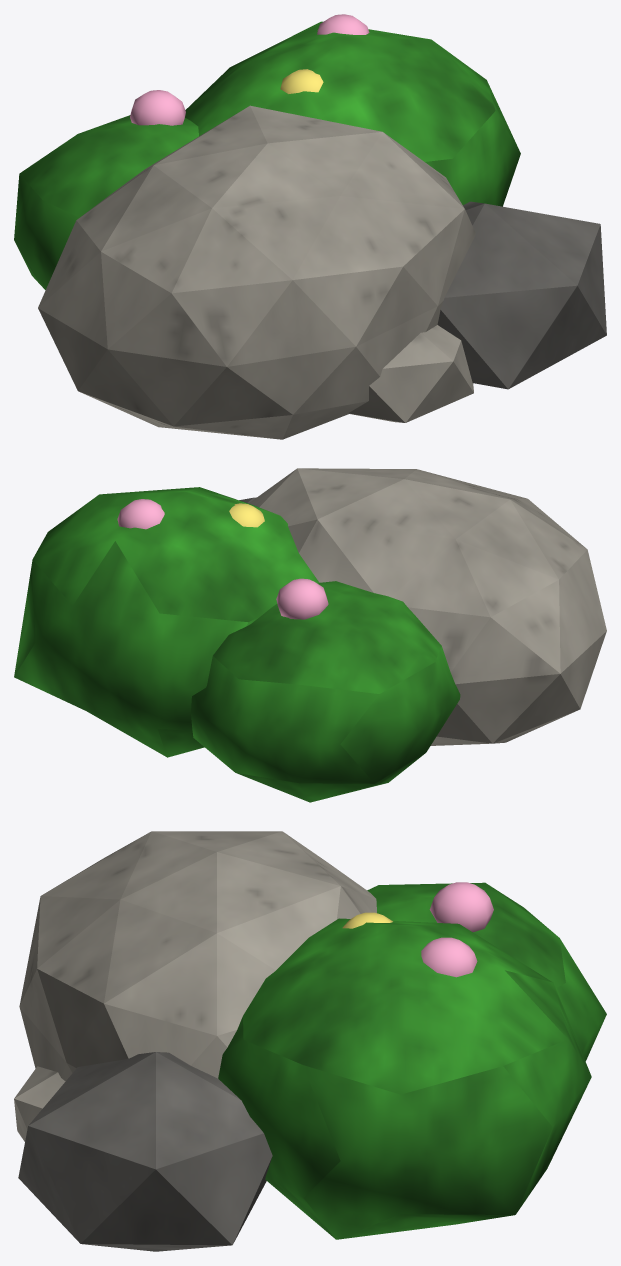
Rendered from env_rock_bush.glb.
The picture shows the model from 3 angles, top to bottom: view 1: azimuth 30°, elevation 25°; view 2: azimuth 150°, elevation 25°; view 3: azimuth 270°, elevation 25°; orthographic projection. The views are drawn at different scales.
Visible parts, largest first — view 1: env_rock_bush; view 2: env_rock_bush; view 3: env_rock_bush.
Part boxes in pixels (x1=…): env_rock_bush: x1=14, y1=14, x2=606, y2=439; env_rock_bush: x1=14, y1=468, x2=606, y2=802; env_rock_bush: x1=14, y1=831, x2=606, y2=1251.
Size of the model in its own units: 0.8556 by 0.4586 by 0.7752.
6 materials, 4 textured.
